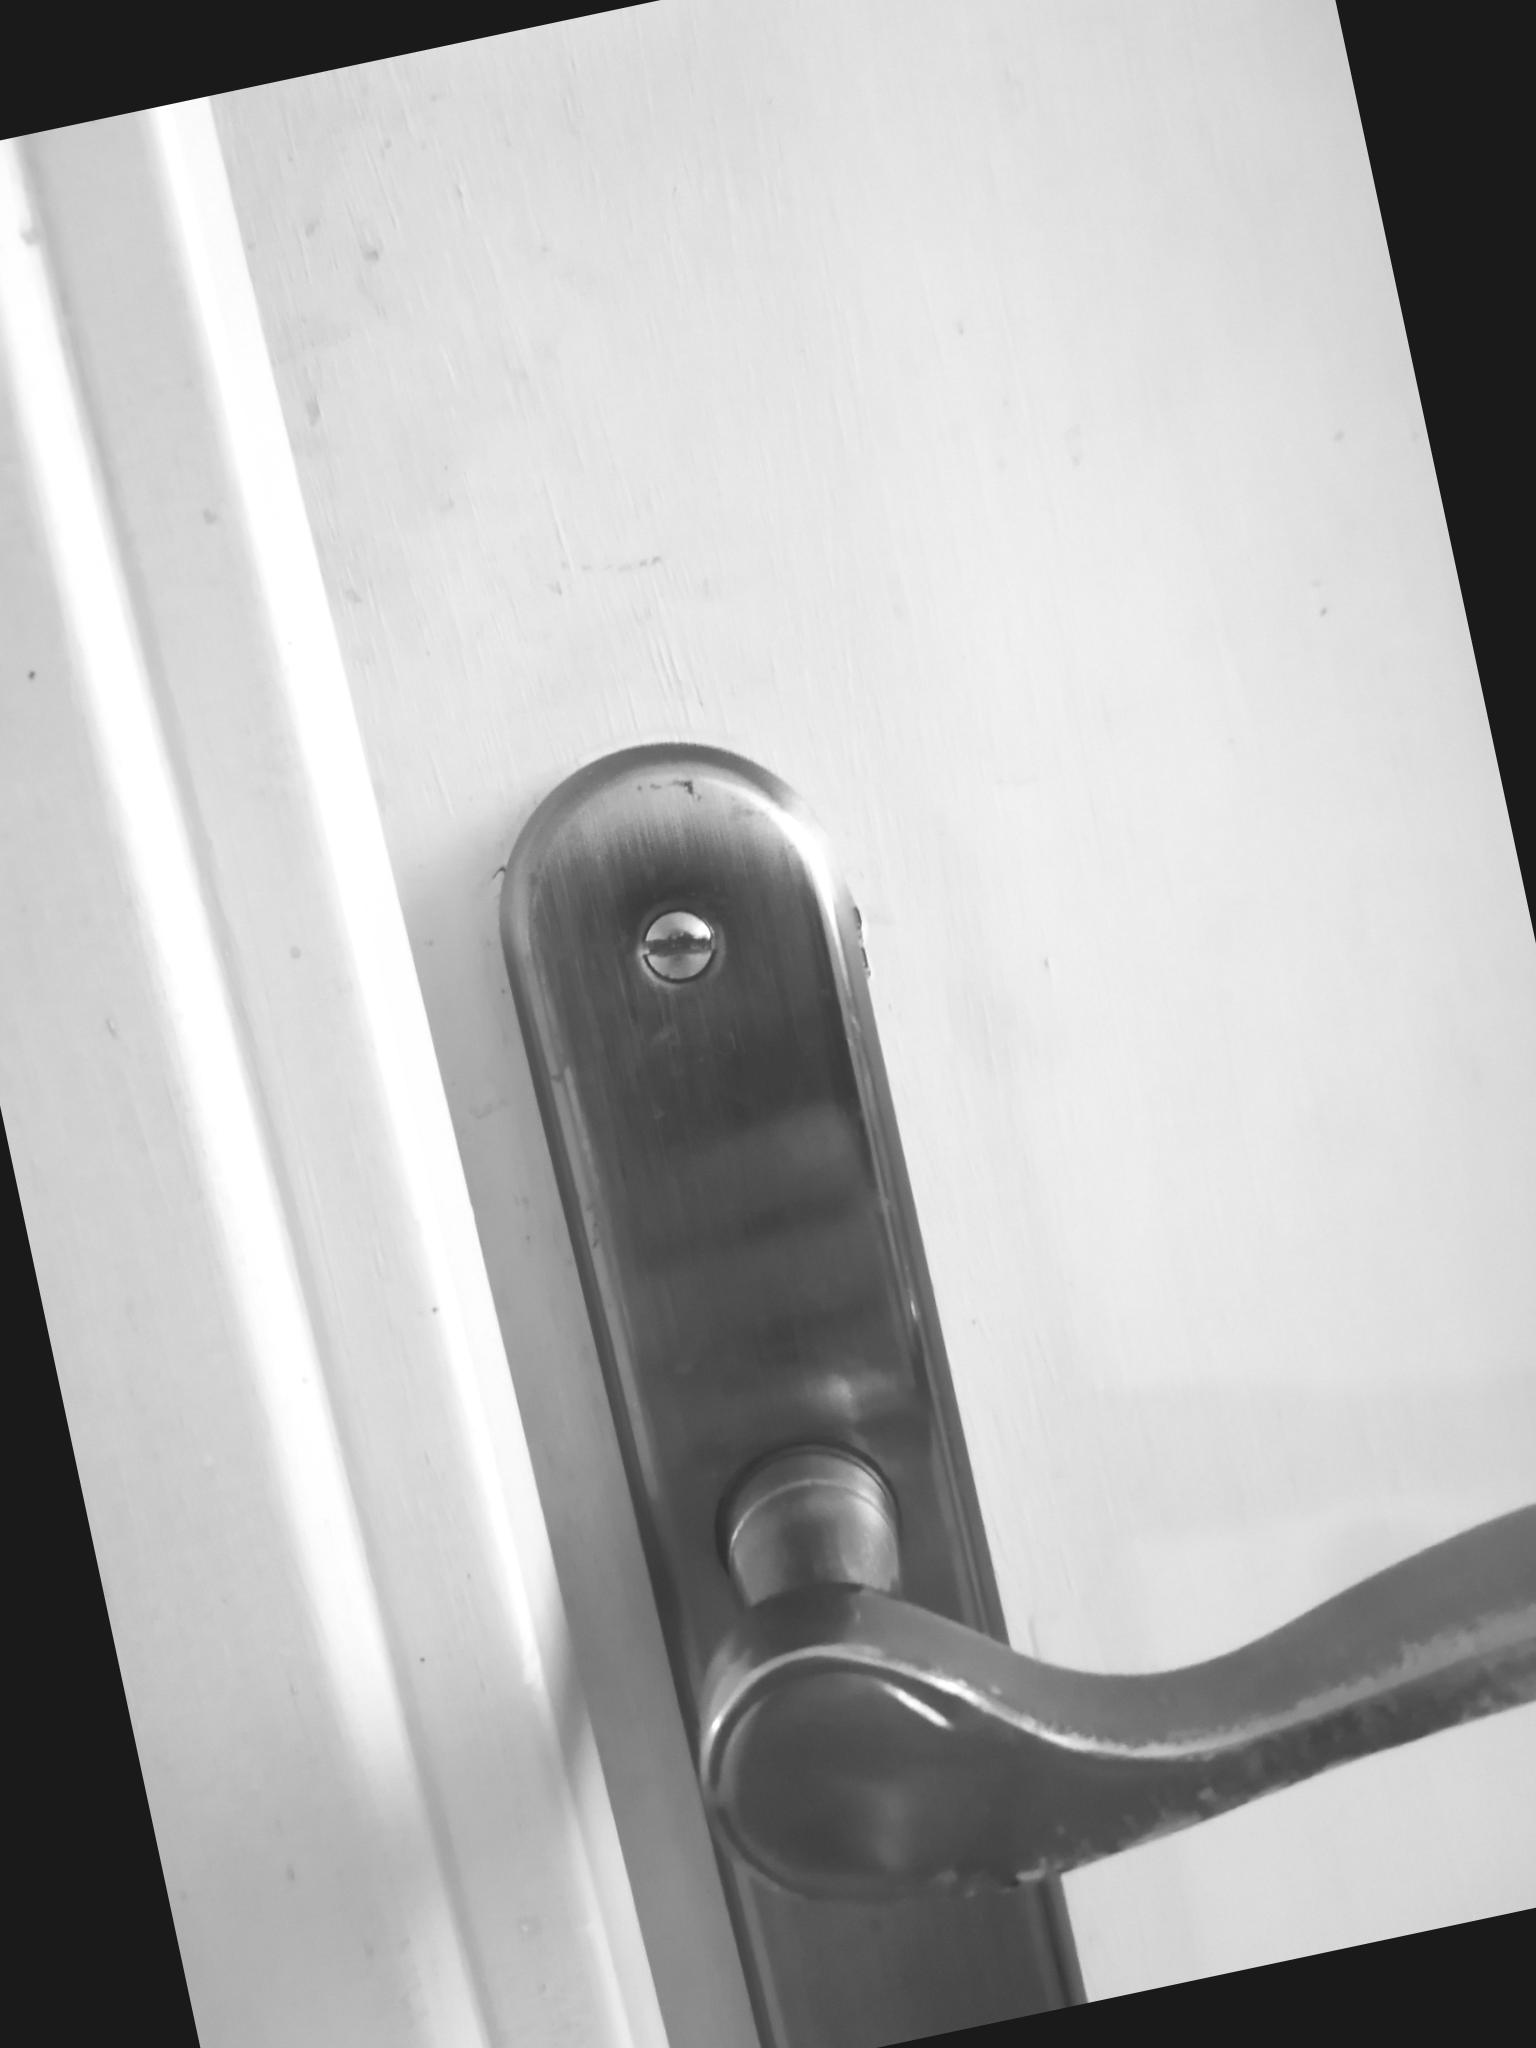screw: (626, 898, 733, 997)
